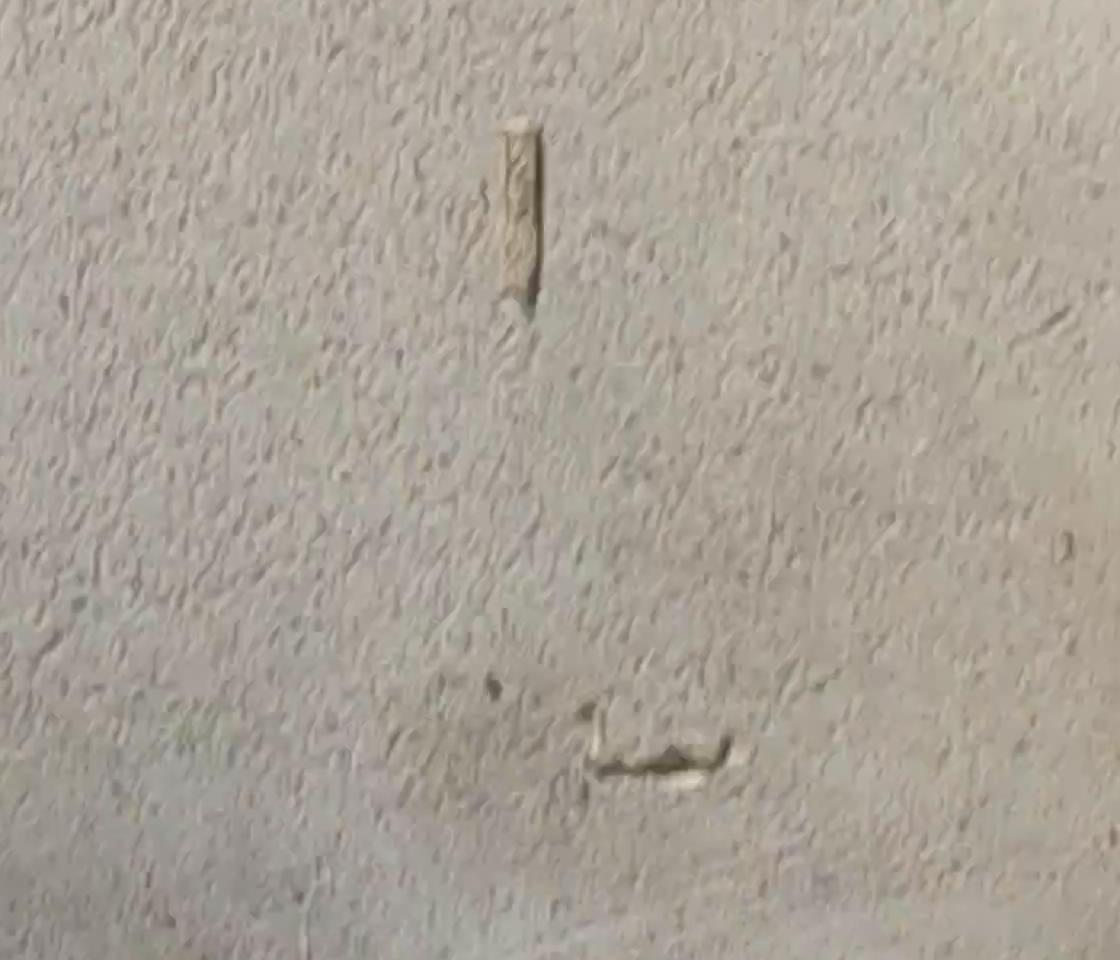scratch: (516, 121, 560, 321), (583, 744, 743, 790)
